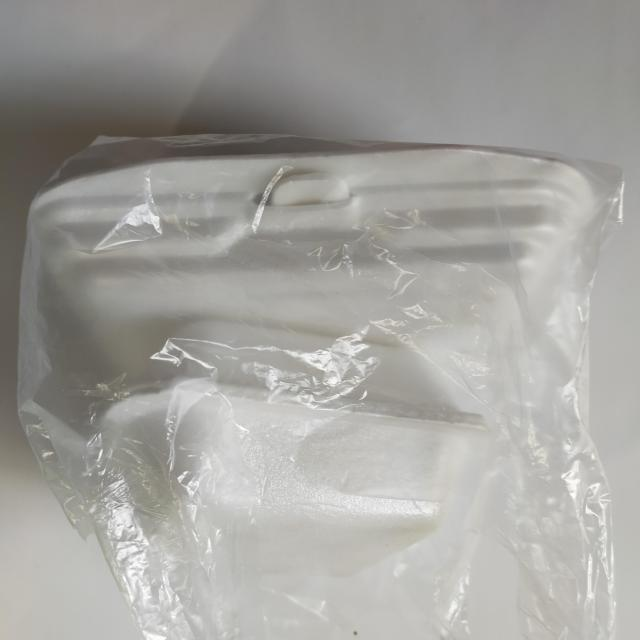styrofoam: (15, 131, 625, 638)
